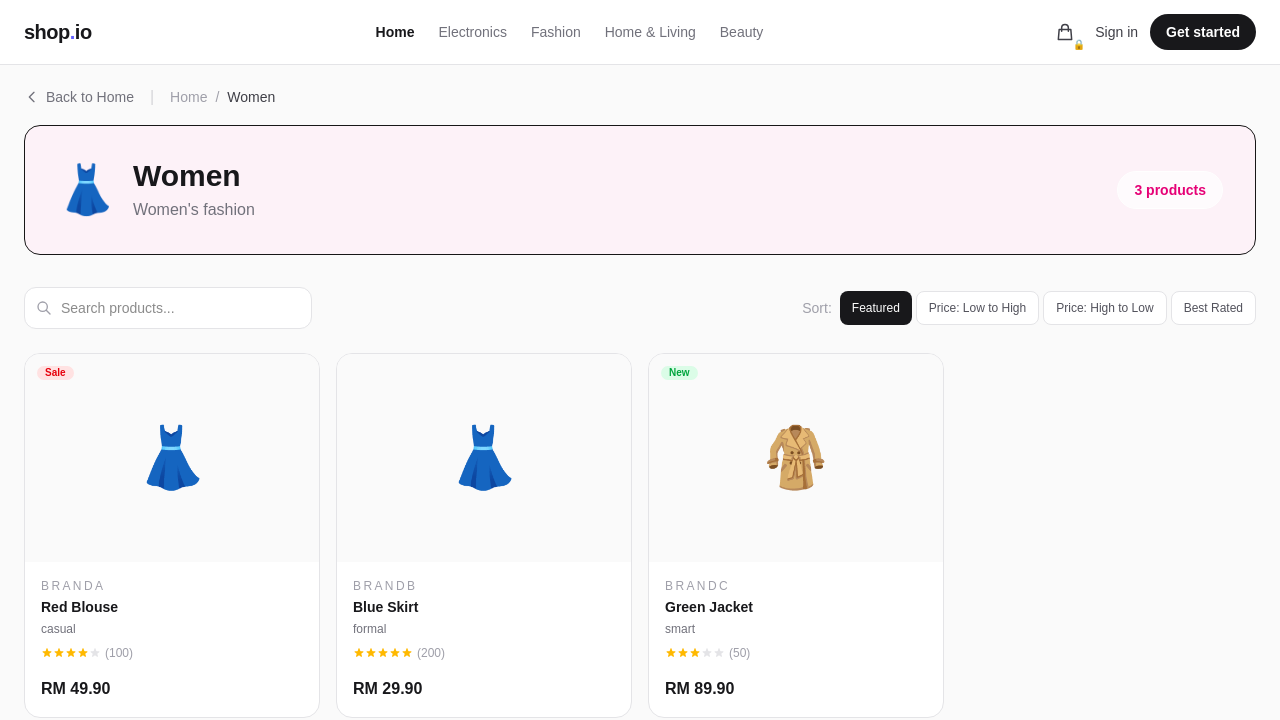
Test: shows no results message when search matches nothing
Type "xyz-not-exist" into the field with placeholder "Search products...".
click(168, 308); type("xyz-not-exist")  # box [24,287,312,329]
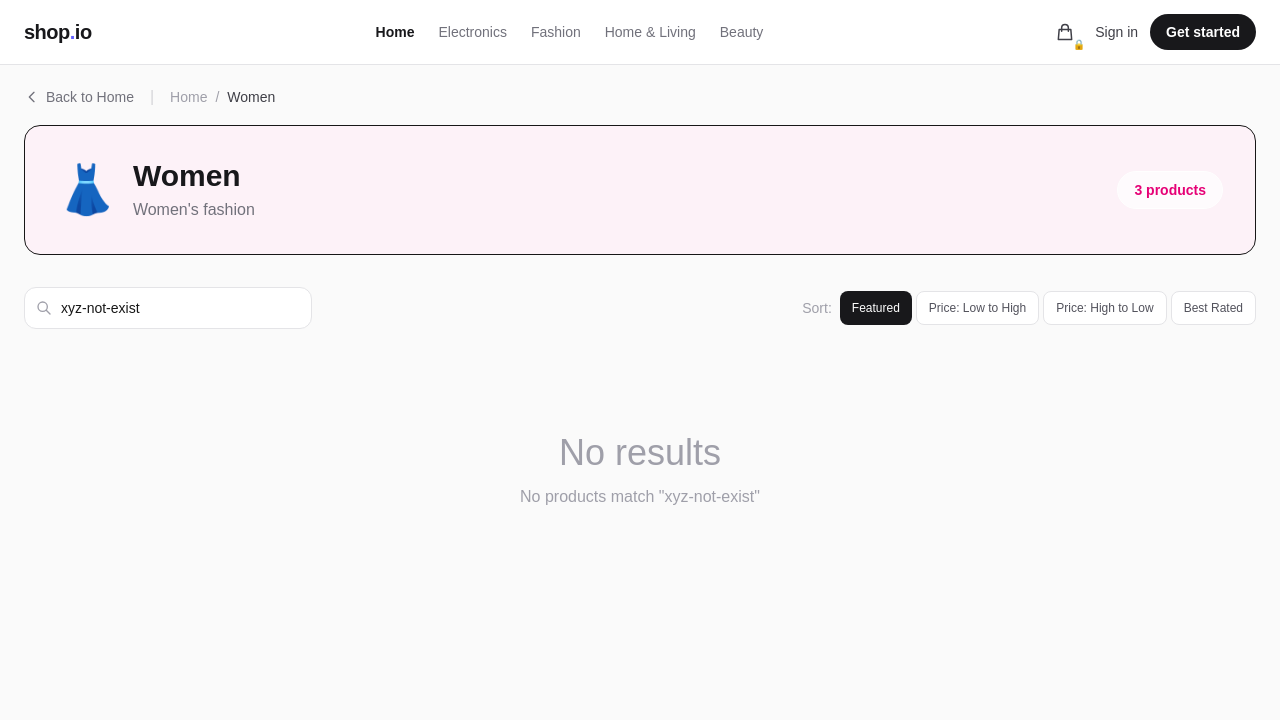
expect the text "No results" is shown: met, box [559,432,721,473]
